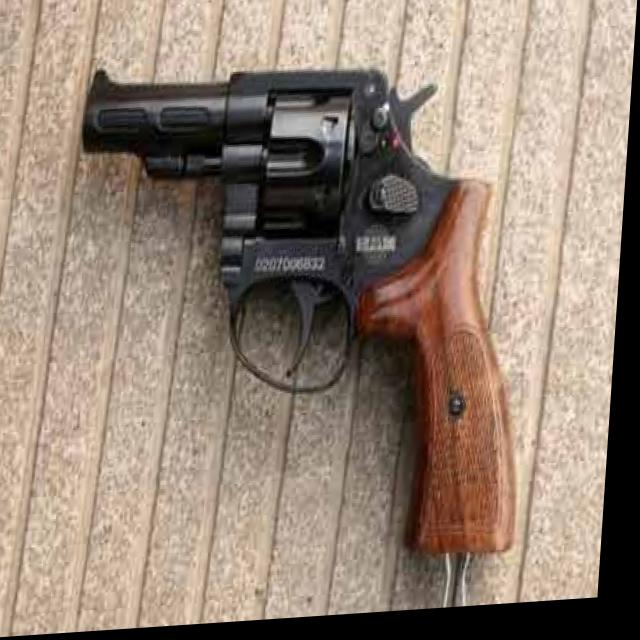handgun: (60, 47, 549, 585)
